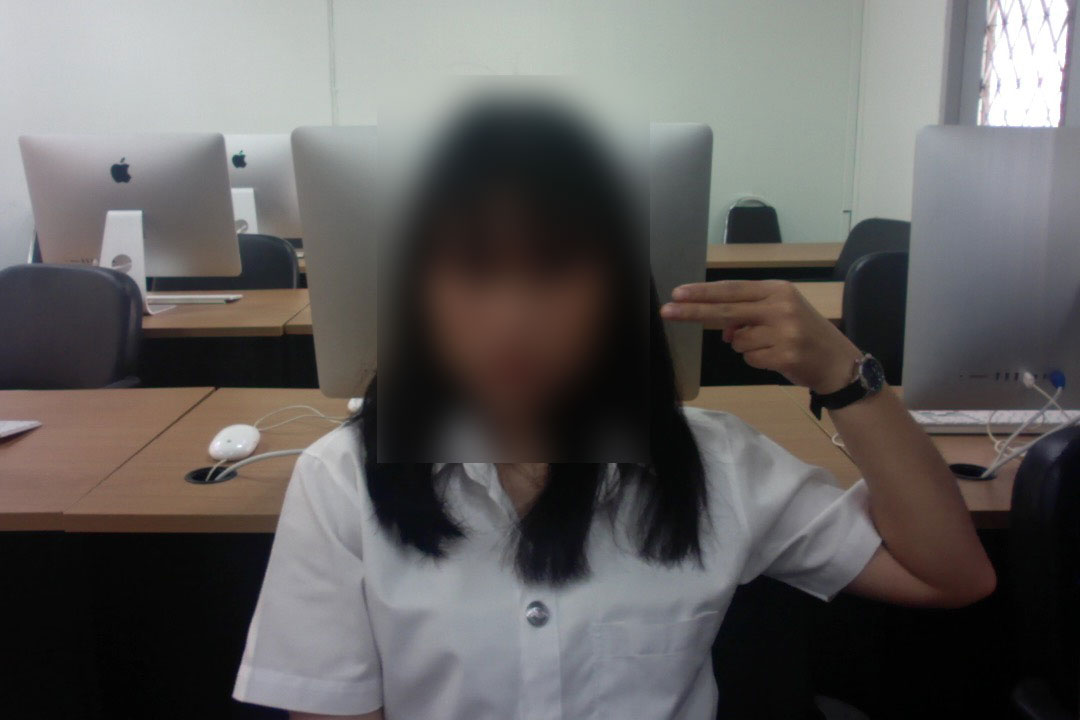hor: (653, 277, 864, 388)
